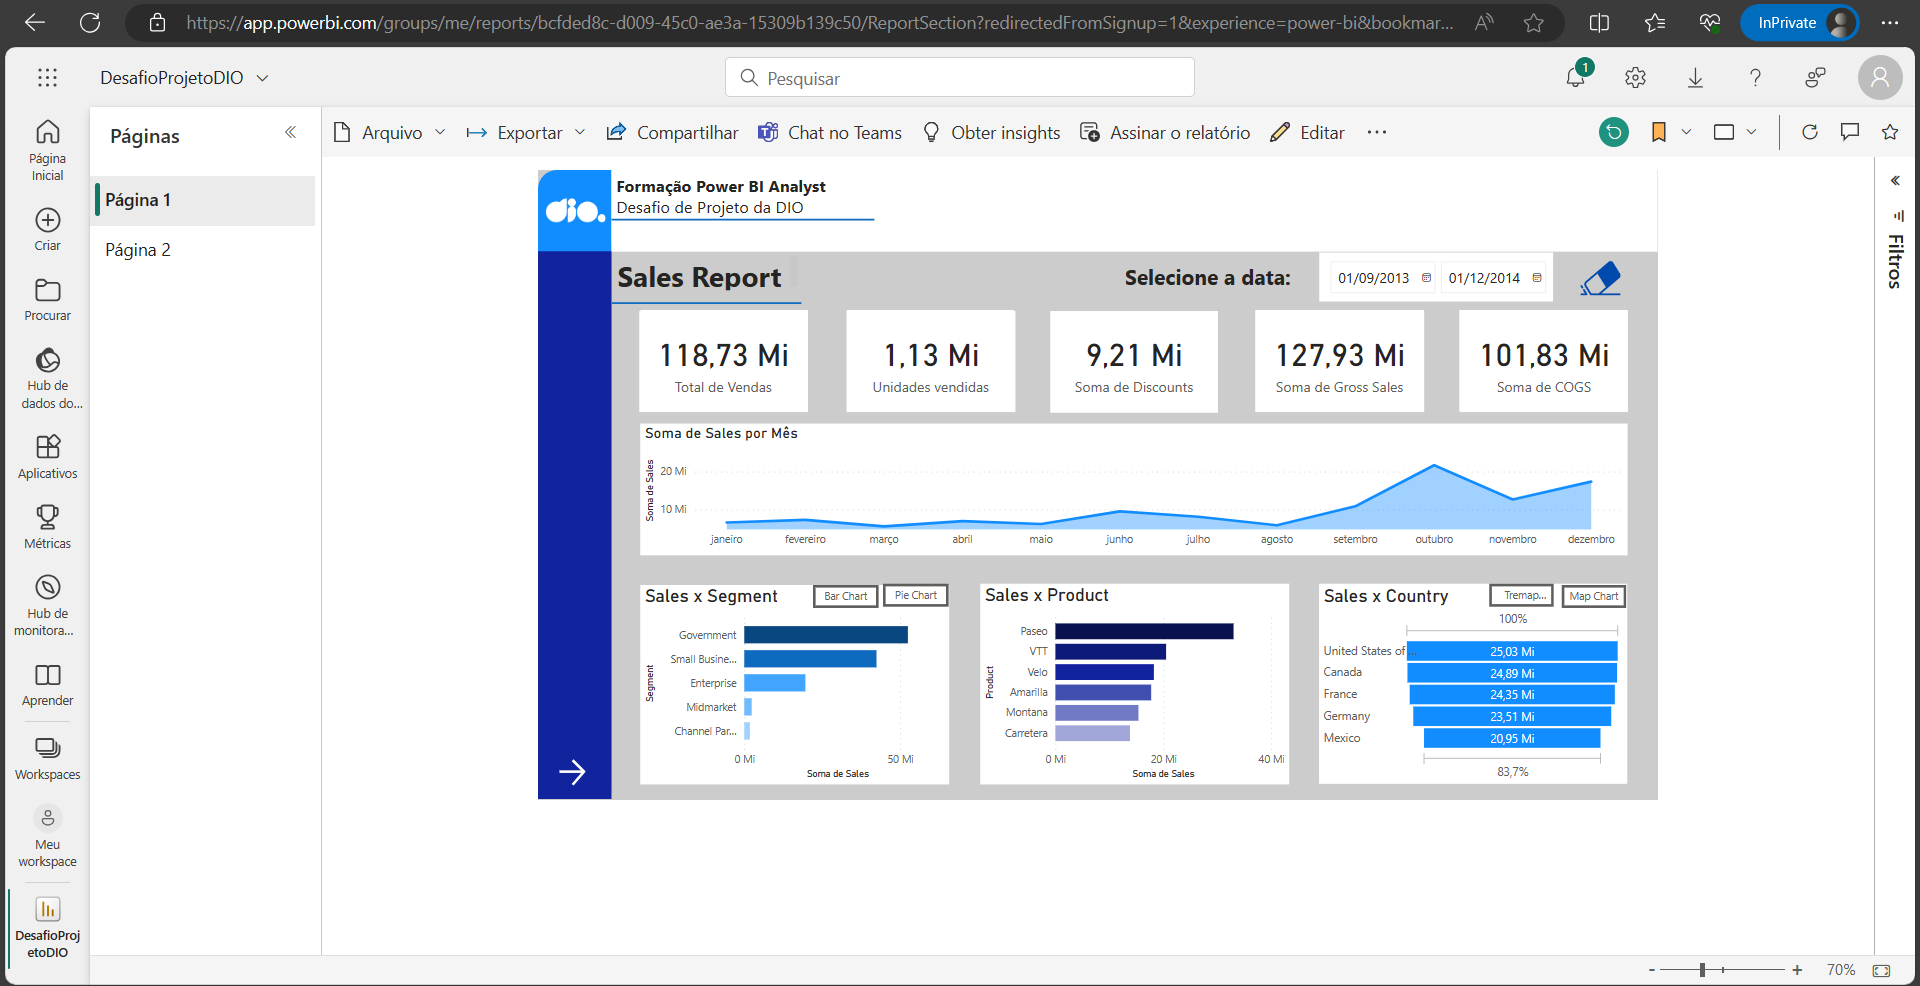

The page's visual inventory and layout, read from the dashboard file:
{"tool":"powerbi","page":{"name":"Página 1","canvas":[1280,720],"ordinal":0},"visuals":[{"type":"shape","box":[0,0,1280,720],"z":0},{"type":"image","title":"clean","box":[1185,95,60,55],"z":0,"group":"g1"},{"type":"shape","box":[83.8,135.1,216.7,32.8],"z":0,"group":"g4"},{"type":"shape","box":[0,0,84,709],"z":1000},{"type":"textbox","box":[85.2,93.8,215.2,48.5],"z":1000,"group":"g4"},{"type":"textbox","box":[666.2,100,210,50],"z":1000,"group":"g1"},{"type":"clusteredBarChart","title":"Sales x Segment","fields":{"Category":["financials.Segment"],"Y":["Sum(financials. Sales)"]},"box":[117.5,473.7,352.5,227.5],"z":1000,"group":"g3"},{"type":"funnel","title":"Sales x Country","fields":{"Category":["financials.Country"],"Y":["Sum(financials. Sales)"]},"box":[892.5,473.7,351.2,227.5],"z":1000,"group":"g2"},{"type":"actionButton","title":"Botão - tremap","box":[1086.3,472.5,73.8,26.2],"z":1250,"group":"g2"},{"type":"actionButton","title":"Botão -pie","box":[395,472.5,75,26.2],"z":1500,"group":"g3"},{"type":"actionButton","title":"Botão - map","box":[1170,473.7,73.8,26.2],"z":1500,"group":"g2"},{"type":"shape","box":[0,93.3,84,626],"z":2000},{"type":"actionButton","box":[1185,100,60,50],"z":2000,"group":"g1"},{"type":"actionButton","title":"Botão - bar","box":[315,473.7,75,26.2],"z":2000,"group":"g3"},{"type":"shape","box":[84,0,1195.3,93.3],"z":3000},{"type":"textbox","box":[84,0,300,83],"z":4000},{"type":"shape","box":[117.5,160,191.2,116.2],"z":5000},{"type":"shape","box":[85,18.8,300,76.2],"z":6000},{"type":"shape","box":[352.5,160,191.2,116.2],"z":7000},{"type":"shape","box":[585,161.2,191.2,116.2],"z":8000},{"type":"shape","box":[820,160,192.5,116.2],"z":9000},{"type":"shape","box":[1052.5,160,192.5,116.2],"z":10000},{"type":"shape","box":[117,289.4,1127.6,149.5],"z":11000},{"type":"shape","box":[117,474,352.2,227.9],"z":12000},{"type":"shape","box":[505.3,474,352.2,227.9],"z":13000},{"type":"shape","box":[892.5,472.8,352.2,227.9],"z":14000},{"type":"areaChart","fields":{"Category":["financials.Date.Variation.Hierarquia de datas.Mês"],"Y":["Sum(financials. Sales)"]},"box":[116.7,290,1127.8,150],"z":15000},{"type":"card","fields":{"Values":["Sum(financials. Sales)"]},"box":[116.2,161.2,192.5,115],"z":16000},{"type":"card","fields":{"Values":["Sum(financials.Units Sold)"]},"box":[352.5,161.2,192.5,115],"z":17000},{"type":"card","fields":{"Values":["Sum(financials.Discounts)"]},"box":[585,161.2,191.2,115],"z":18000},{"type":"card","fields":{"Values":["Sum(financials.Gross Sales)"]},"box":[820,161.2,192.5,115],"z":19000},{"type":"card","fields":{"Values":["Sum(financials.COGS)"]},"box":[1053.8,161.2,191.2,115],"z":20000},{"type":"clusteredBarChart","title":"Sales x Product","fields":{"Y":["Sum(financials. Sales)"],"Category":["financials.Product"]},"box":[505,472.5,352.5,228.8],"z":21000},{"type":"slicer","fields":{"Values":["financials.Date"]},"box":[892.5,93.8,267.5,56.2],"z":22000},{"type":"group","id":"g1","title":"Filtro por data","box":[666.2,95,578.8,55],"z":23000},{"type":"group","id":"g2","title":"Sales por país","box":[892.5,472.5,351.2,228.8],"z":24000},{"type":"group","id":"g3","title":"Sales por segmento","box":[117.5,472.5,352.5,228.8],"z":25000},{"type":"image","title":"logo_dio","box":[3.8,16.2,77.5,61.2],"z":26000},{"type":"actionButton","box":[18.8,668.8,48.8,40],"z":27000},{"type":"group","id":"g4","title":"Title report","box":[83.8,93.8,217.5,73.8],"z":28000}]}

Visuals, with their boxes on the page's 1280x720 design canvas (x1, y1, x2, y2). These are canvas units, not pixel positions in the 1920x986 screenshot, which may show the page scaled, cropped or inside an application window:
shape: detection(0, 0, 1280, 720)
"clean" image: detection(1185, 95, 1245, 150)
shape: detection(84, 135, 300, 168)
shape: detection(0, 0, 84, 709)
textbox: detection(85, 94, 300, 142)
textbox: detection(666, 100, 876, 150)
"Sales x Segment" clusteredBarChart: detection(118, 474, 470, 701)
"Sales x Country" funnel: detection(892, 474, 1244, 701)
"Botão - tremap" actionButton: detection(1086, 472, 1160, 499)
"Botão -pie" actionButton: detection(395, 472, 470, 499)
"Botão - map" actionButton: detection(1170, 474, 1244, 500)
shape: detection(0, 93, 84, 719)
actionButton: detection(1185, 100, 1245, 150)
"Botão - bar" actionButton: detection(315, 474, 390, 500)
shape: detection(84, 0, 1279, 93)
textbox: detection(84, 0, 384, 83)
shape: detection(118, 160, 309, 276)
shape: detection(85, 19, 385, 95)
shape: detection(352, 160, 544, 276)
shape: detection(585, 161, 776, 277)
shape: detection(820, 160, 1012, 276)
shape: detection(1052, 160, 1245, 276)
shape: detection(117, 289, 1245, 439)
shape: detection(117, 474, 469, 702)
shape: detection(505, 474, 858, 702)
shape: detection(892, 473, 1245, 701)
areaChart - financials.Date.Variation.Hierarquia de datas.Mês x Sum(financials. Sales): detection(117, 290, 1244, 440)
card - Sum(financials. Sales): detection(116, 161, 309, 276)
card - Sum(financials.Units Sold): detection(352, 161, 545, 276)
card - Sum(financials.Discounts): detection(585, 161, 776, 276)
card - Sum(financials.Gross Sales): detection(820, 161, 1012, 276)
card - Sum(financials.COGS): detection(1054, 161, 1245, 276)
"Sales x Product" clusteredBarChart: detection(505, 472, 858, 701)
slicer - financials.Date: detection(892, 94, 1160, 150)
"Filtro por data" group: detection(666, 95, 1245, 150)
"Sales por país" group: detection(892, 472, 1244, 701)
"Sales por segmento" group: detection(118, 472, 470, 701)
"logo_dio" image: detection(4, 16, 81, 77)
actionButton: detection(19, 669, 68, 709)
"Title report" group: detection(84, 94, 301, 168)
